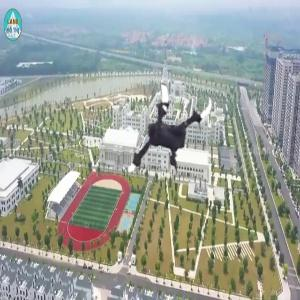drone: (107, 69, 223, 185)
